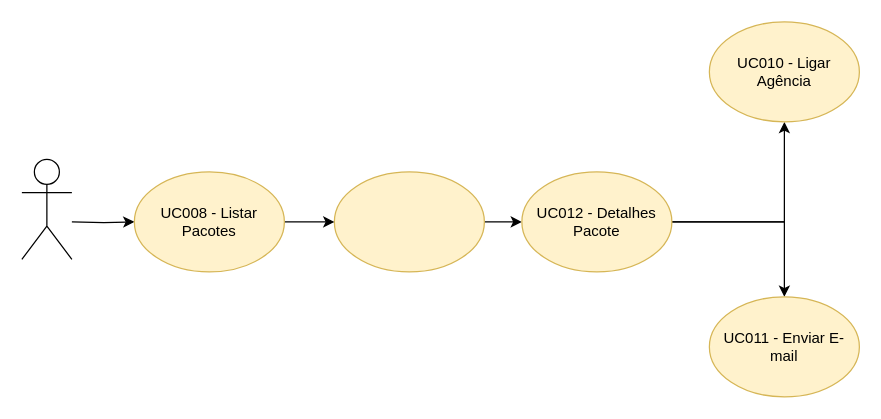
Some shapes in this 881 by 419 pixel diagram are drawn without their labels. Each missing label, with the centre of its shape:
Actor: [46,208]
UC009 - Selecionar Pacote: [408,221]
